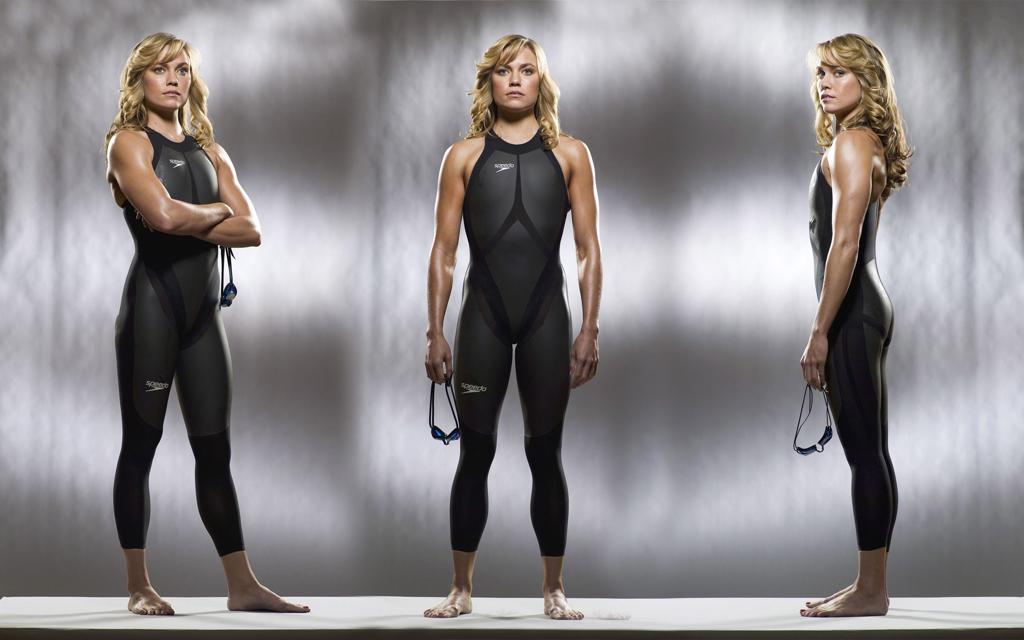face: (489, 43, 540, 108), (142, 43, 192, 108), (813, 46, 862, 111)
